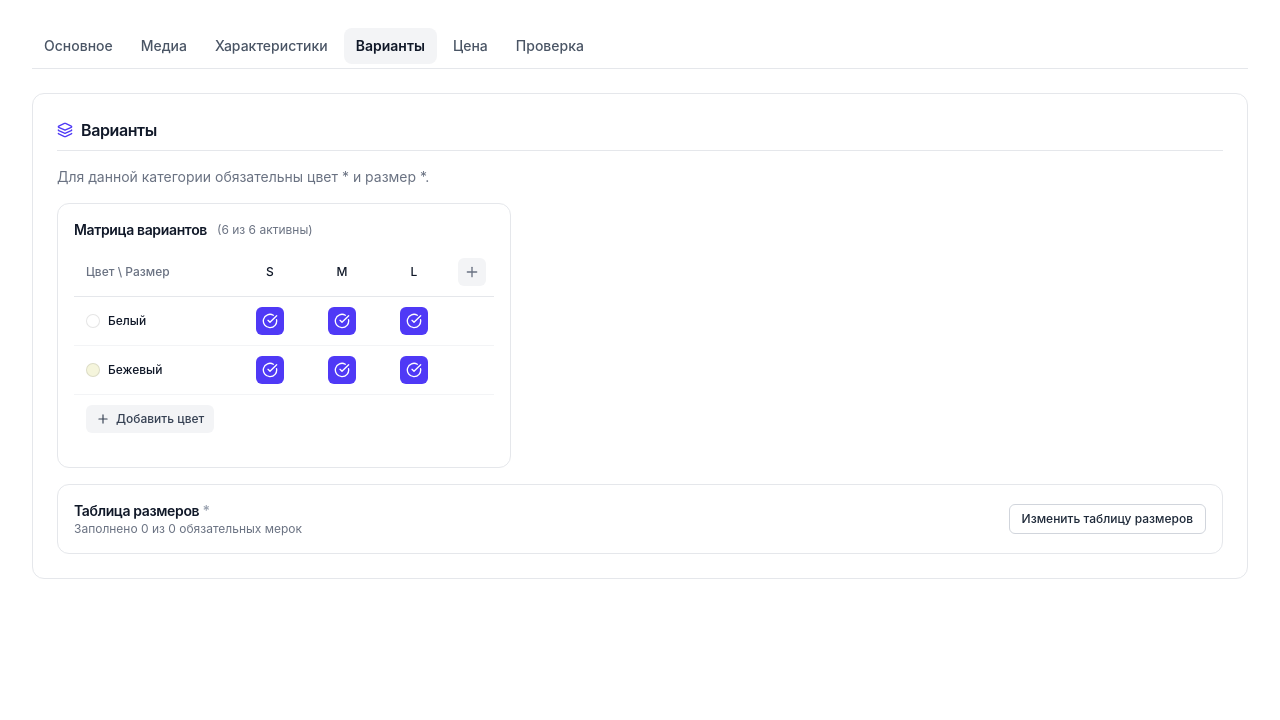
Test case: ProductStudioFormWorkspace - Variant Editing Parity (PS.R4B3.1C4C3B3A) › 7. PS.R4B3.1C4C3B3B-R3A — Stable Matrix Geometry, Canonical Labels & Popover Exclusivity › 4. popovers are mutually exclusive and close on Escape key
This screenshot has width=1280, height=720.
Expected: the button with test id "matrix-add-size-btn" is shown, [458,258,486,286]
// Open Color popover
Click the button with test id "matrix-add-color-btn" at point(150, 419), box [86,405,214,433]
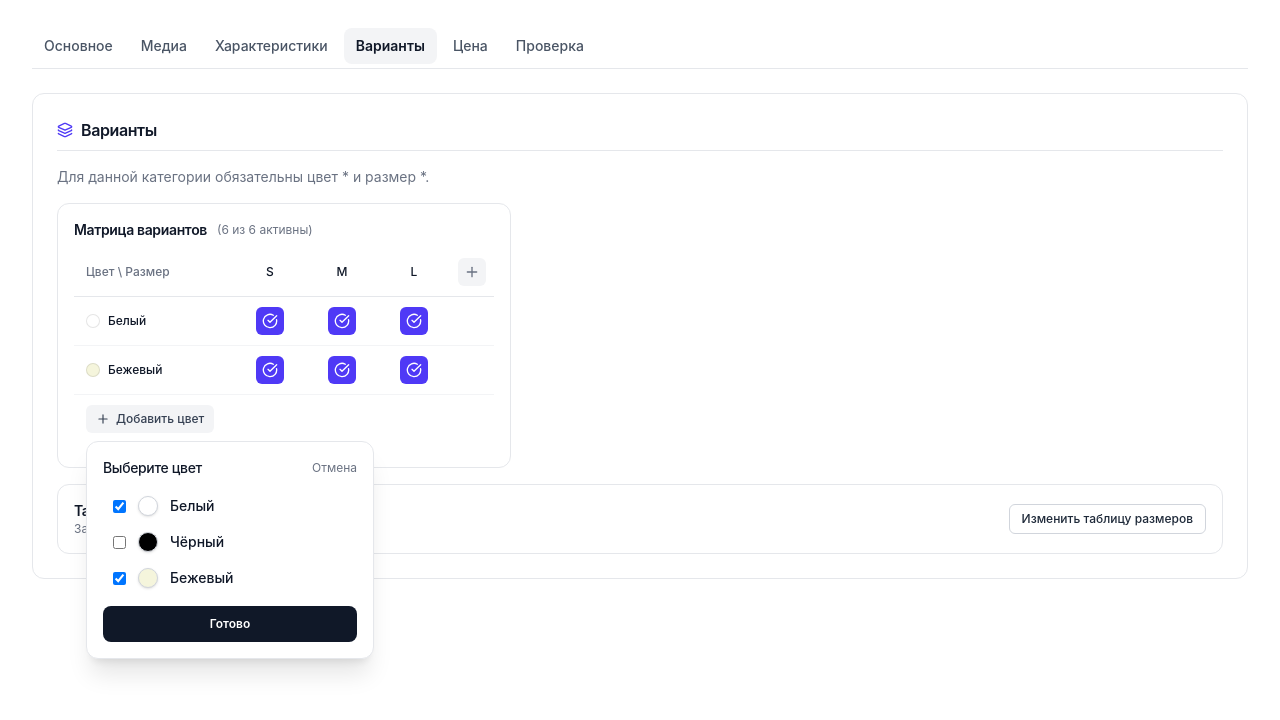
Expected: the element with test id "form-color-popover" is shown, [86,441,374,659]
Click the button with test id "matrix-add-size-btn" at point(472, 272), box [458,258,486,286]
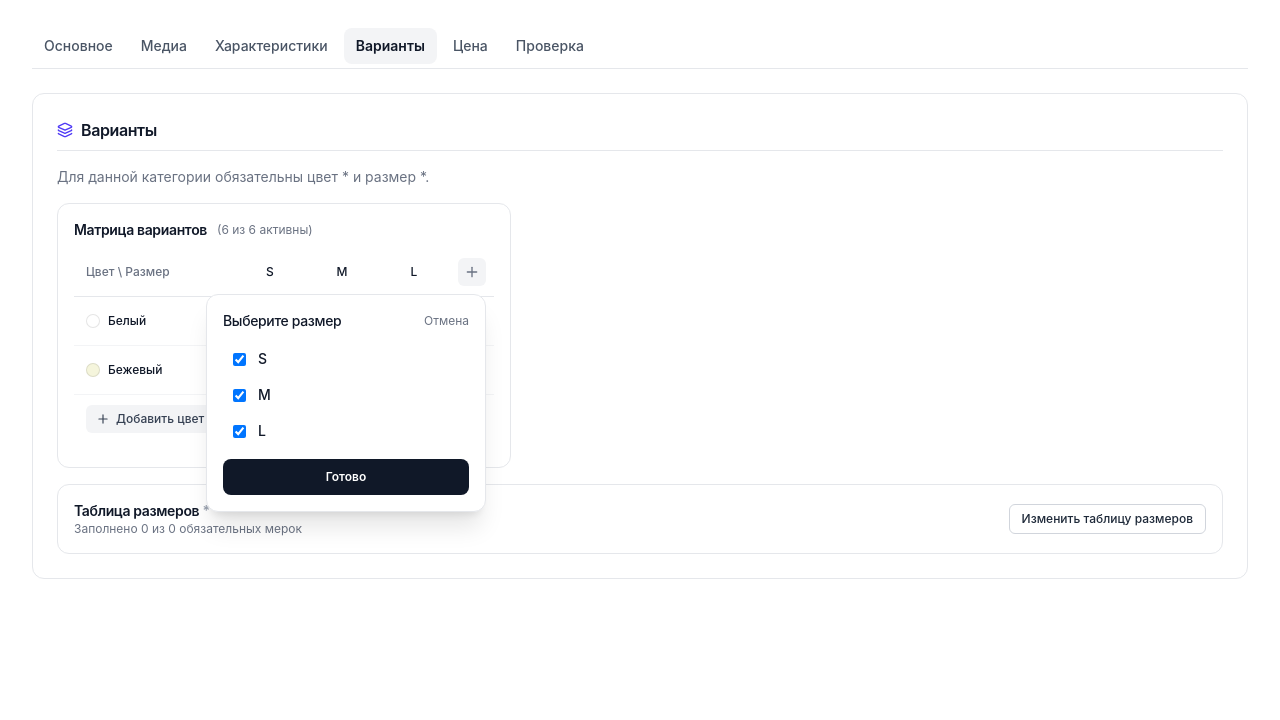
Expected: the element with test id "form-size-popover" is shown, [206,294,486,512]
Expected: the element with test id "form-color-popover" is gone
Press Escape
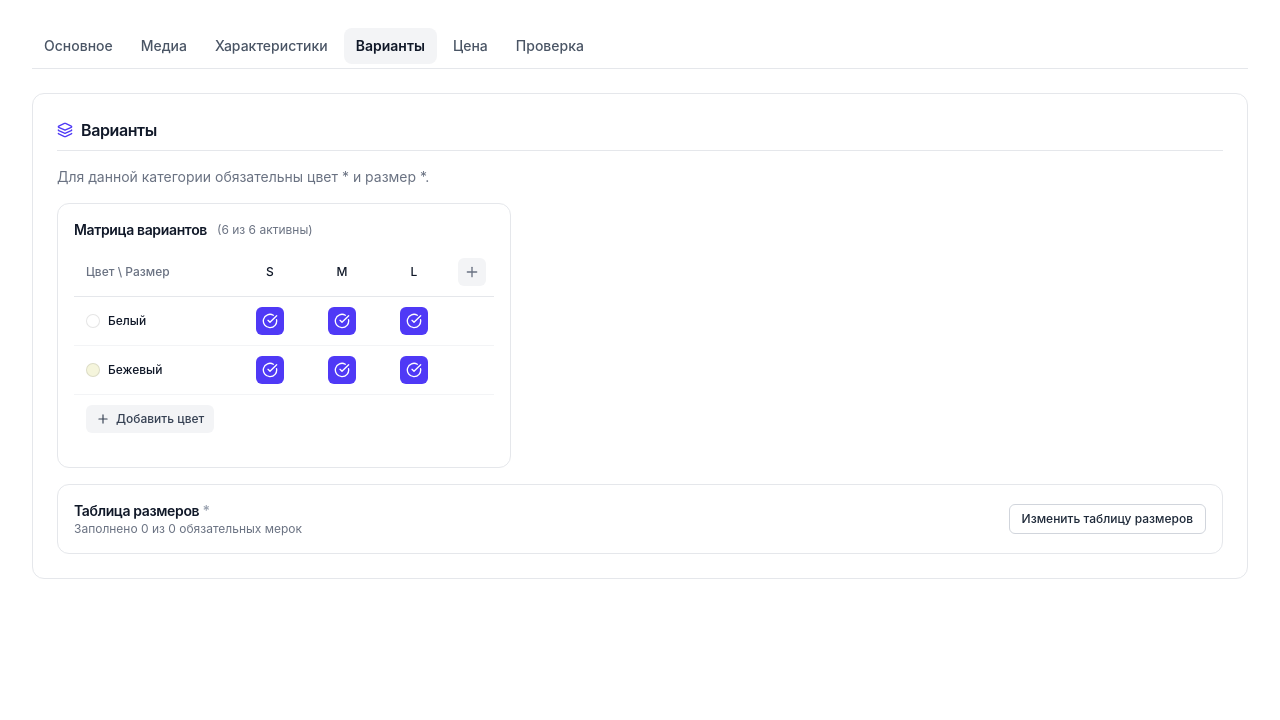
Expected: the element with test id "form-size-popover" is gone
